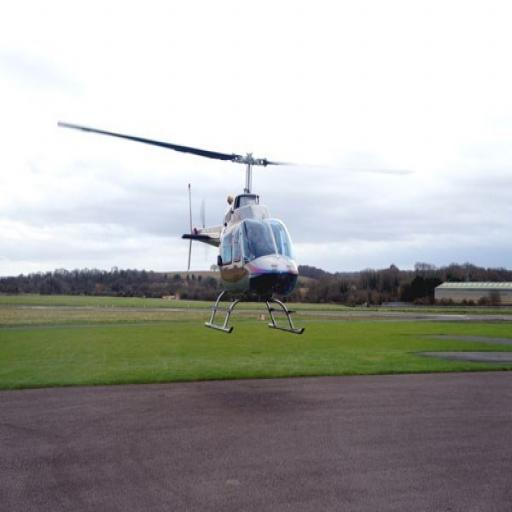helicopter: (162, 134, 344, 361)
